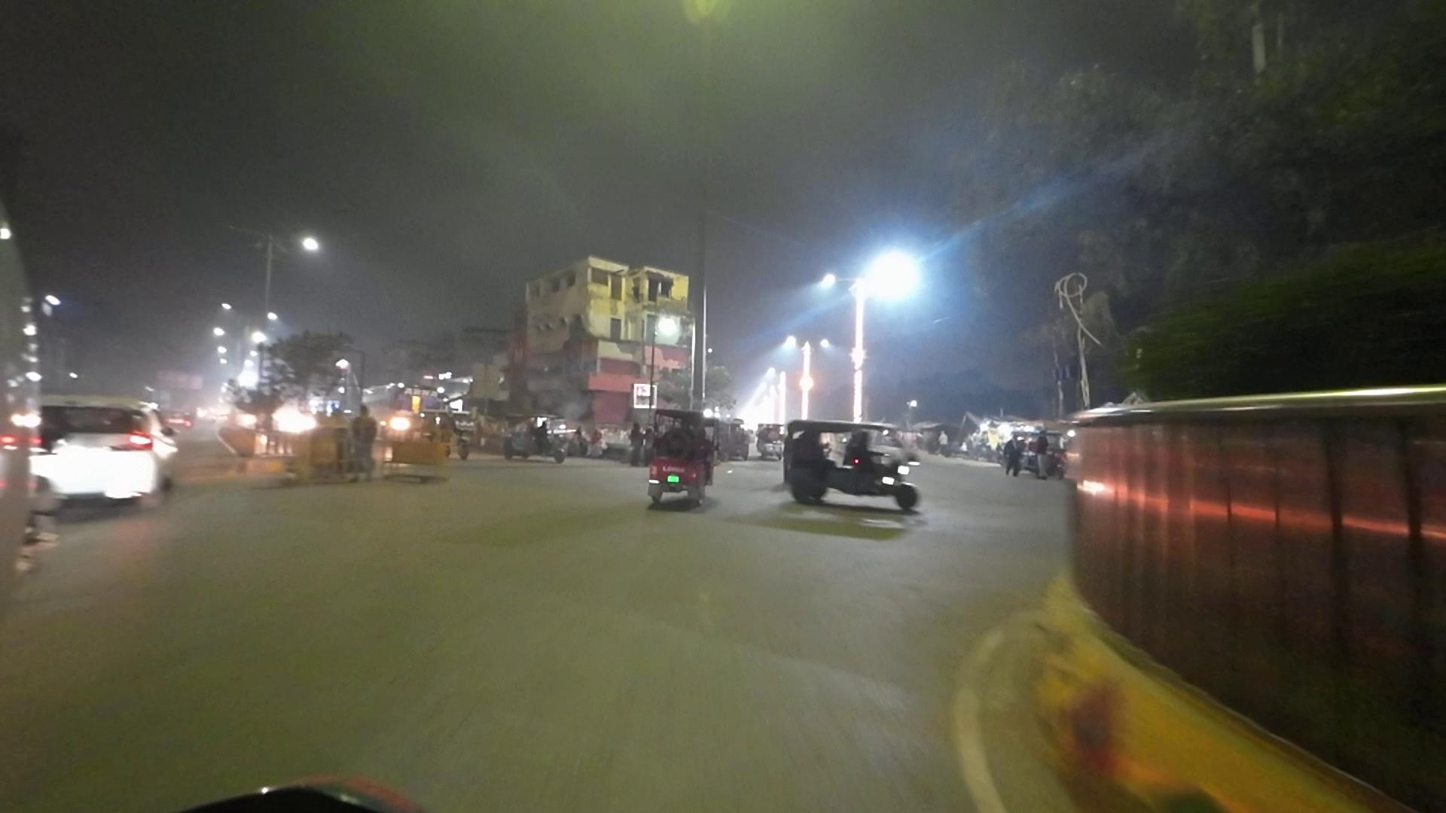streetlight: (227, 223, 262, 238)
